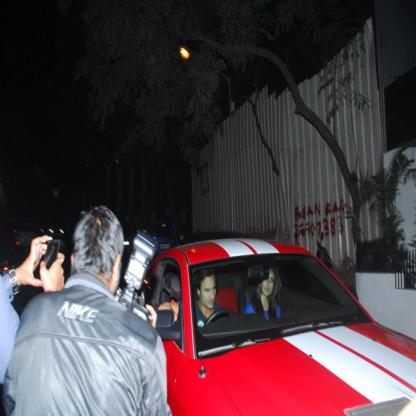face: (201, 280, 217, 309), (262, 273, 275, 297)
